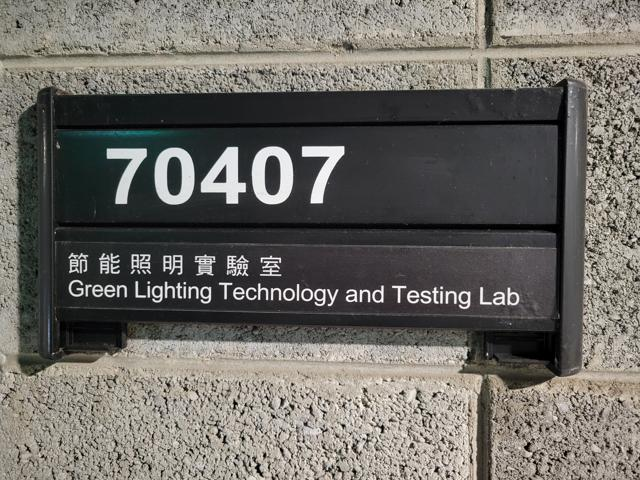doorplate: (24, 73, 594, 388)
